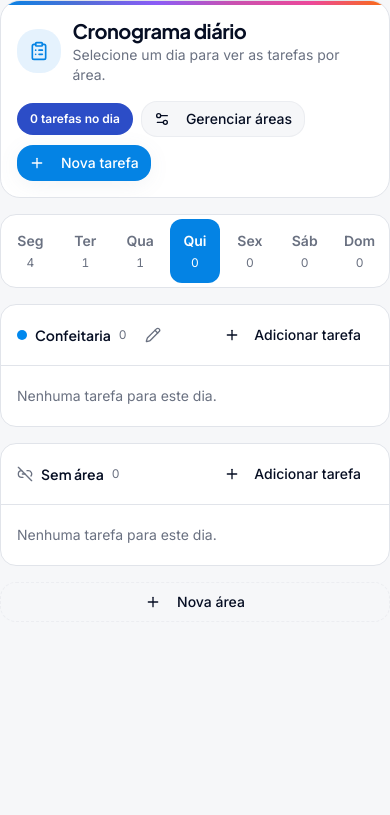
Test: Daily recurring schedule › starts on today and switches days, showing ordered tasks and totals only for that day
Click the button with aria-label "Ver Segunda" at (30, 251), box [5,219,56,283]
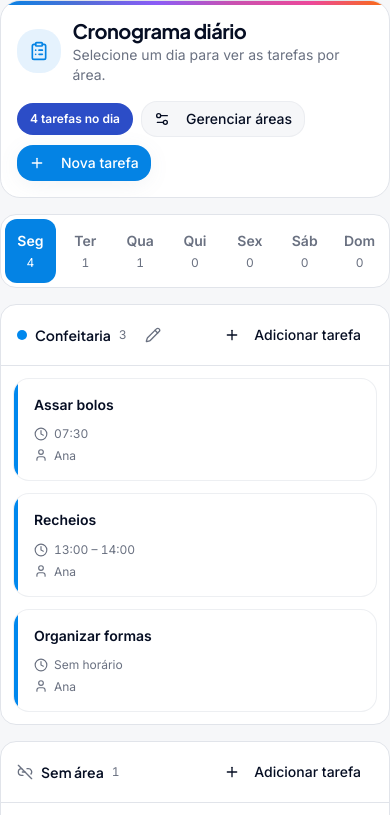
Expected: the text "Pães" is not shown
Now the text "13:00 – 14:00" is shown, box [34,542,135,556]
Now the text "4 tarefas no dia" is shown, box [17,103,133,135]
Click the button with aria-label "Ver Terça" at (85, 251), box [60,219,111,283]
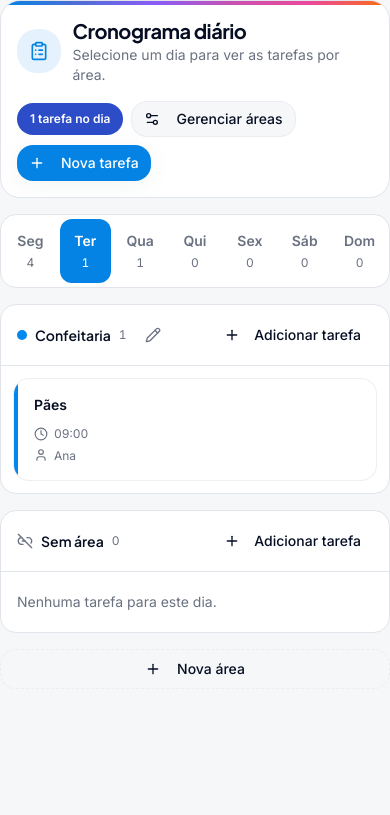
Now the text "Pães" is shown, box [34,396,67,413]
Now the text "1 tarefa no dia" is shown, box [17,103,124,135]
Now the button "Recheios" is gone
Click the button with aria-label "Ver Domingo" at (360, 251), box [334,219,385,283]
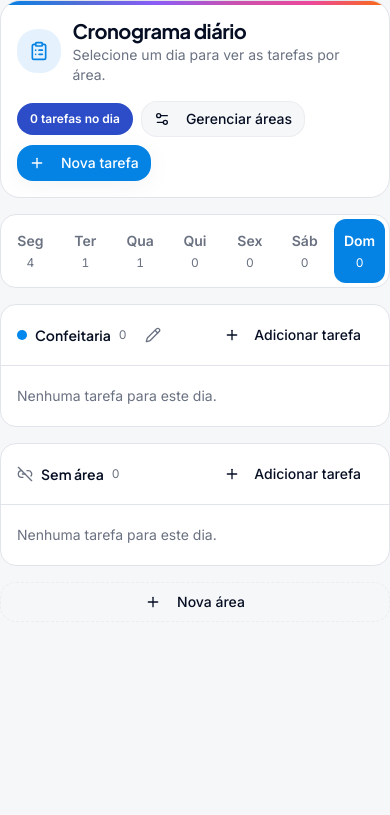
Now the text "0 tarefas no dia" is shown, box [17,103,133,135]
